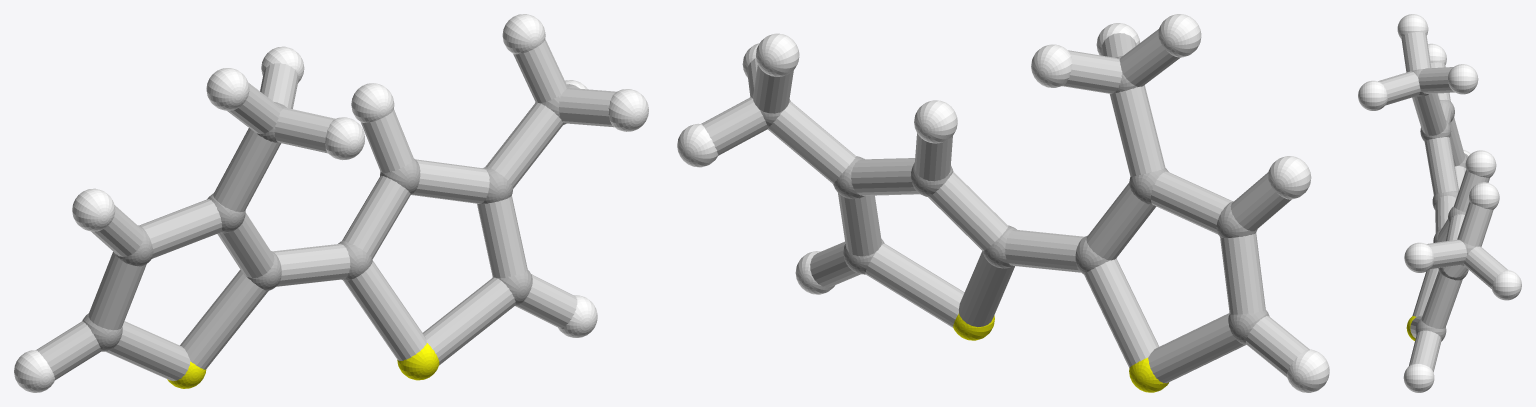
Rendered from Methylthiophene_Phi_5_Theta_150_Methylthiophene.glb.
3 views of the same model, side by side, from view 1: azimuth 30°, elevation 25°; view 2: azimuth 150°, elevation 25°; view 3: azimuth 270°, elevation 25° (orthographic). The views are drawn at different scales.
Visible parts, largest first — view 1: grp7965, grp3621, grp1, grp7241; view 2: grp7965, grp3621, grp1, grp7241; view 3: grp7965, grp3621, grp1.
Part boxes in pixels (x1,y1,x2,y2): grp7965: (36,39,616,380); grp3621: (14,14,648,392); grp1: (82,87,568,351); grp7241: (167,343,439,388); grp7965: (701,29,1309,383); grp3621: (677,14,1329,392); grp1: (751,56,1269,344); grp7241: (953,313,1168,392); grp7965: (1378,32,1507,371); grp3621: (1358,14,1521,392); grp1: (1411,69,1475,341).
Bounding box in the file's own units: 9.71 × 5.55 × 3.2.
